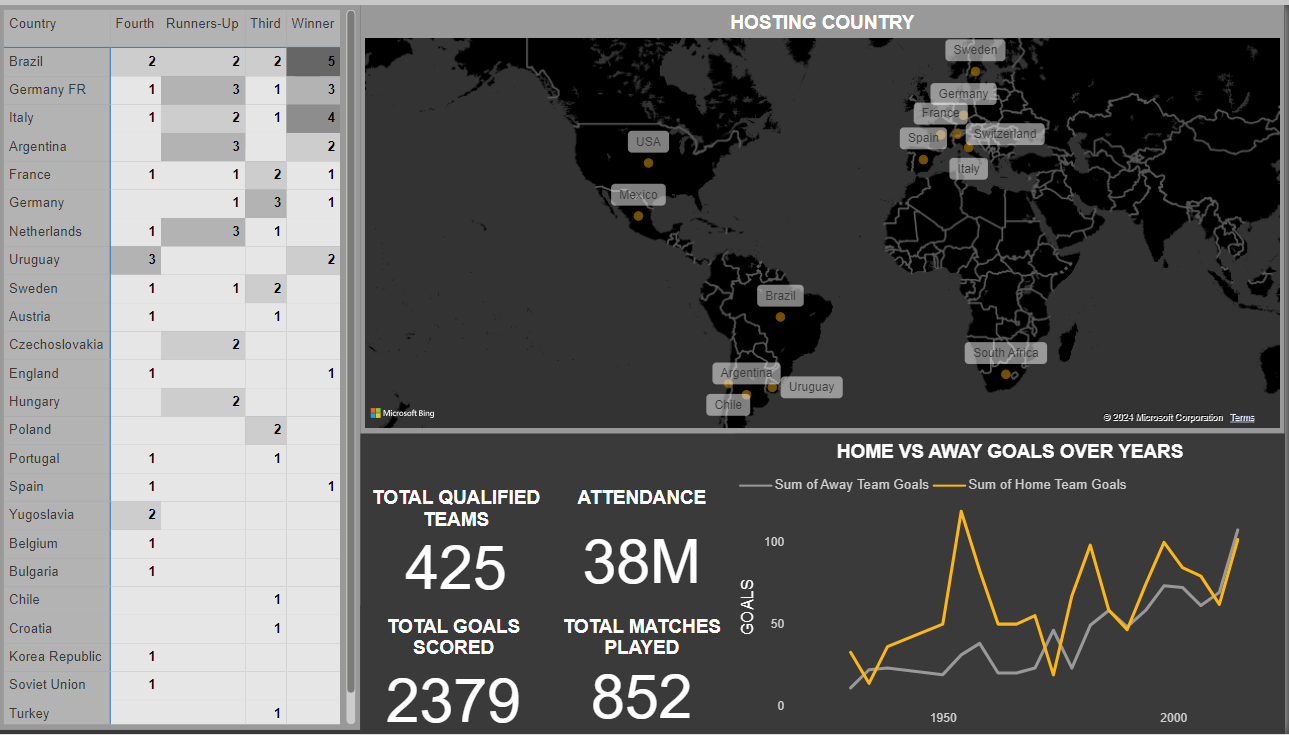

Layout of this report page (visuals, bound fields, positions):
{"tool":"powerbi","page":{"name":"General Stats","canvas":[1280,720],"ordinal":0},"visuals":[{"type":"pivotTable","fields":{"Rows":["CountryPerformance.Country"],"Values":["CountNonNull(CountryPerformance.Country)"],"Columns":["CountryPerformance.Position"]},"box":[10,0,357.1,715.7],"z":0},{"type":"map","title":"HOSTING COUNTRY","fields":{"Category":["WorldCups.Country"]},"box":[367.1,0,912.9,422.9],"z":1000},{"type":"card","title":"TOTAL MATCHES PLAYED","fields":{"Values":["CountNonNull(WorldCupMatches.MatchID)"]},"box":[551.4,592.9,185.7,118.6],"z":2000},{"type":"card","title":"TOTAL QUALIFIED TEAMS","fields":{"Values":["Sum(WorldCups.QualifiedTeams)"]},"box":[368.6,465.7,184.3,118.6],"z":3000},{"type":"card","title":"TOTAL GOALS SCORED","fields":{"Values":["Sum(WorldCups.GoalsScored)"]},"box":[367.1,592.9,184.3,127.1],"z":4000},{"type":"card","title":"ATTENDANCE","fields":{"Values":["Sum(WorldCupMatches.Attendance)"]},"box":[551.4,465.7,185.7,127.1],"z":5000},{"type":"lineChart","title":"HOME VS AWAY GOALS OVER YEARS","fields":{"Category":["WorldCupMatches.Year"],"Y":["Sum(WorldCupMatches.Away Team Goals)"],"Y2":["Sum(WorldCupMatches.Home Team Goals)"]},"box":[737.1,422.9,542.9,297.1],"z":6000}]}

Visuals, with their boxes in screenshot pixels (x1, y1, x2, y2), scaled from the page's 1280x720 canvas onto the 1289x735 screenshot:
pivotTable - CountryPerformance.Country x CountNonNull(CountryPerformance.Country): <bbox>10, 0, 370, 731</bbox>
"HOSTING COUNTRY" map: <bbox>370, 0, 1288, 432</bbox>
"TOTAL MATCHES PLAYED" card: <bbox>555, 605, 742, 726</bbox>
"TOTAL QUALIFIED TEAMS" card: <bbox>371, 475, 557, 596</bbox>
"TOTAL GOALS SCORED" card: <bbox>370, 605, 555, 734</bbox>
"ATTENDANCE" card: <bbox>555, 475, 742, 605</bbox>
"HOME VS AWAY GOALS OVER YEARS" lineChart: <bbox>742, 432, 1288, 734</bbox>
